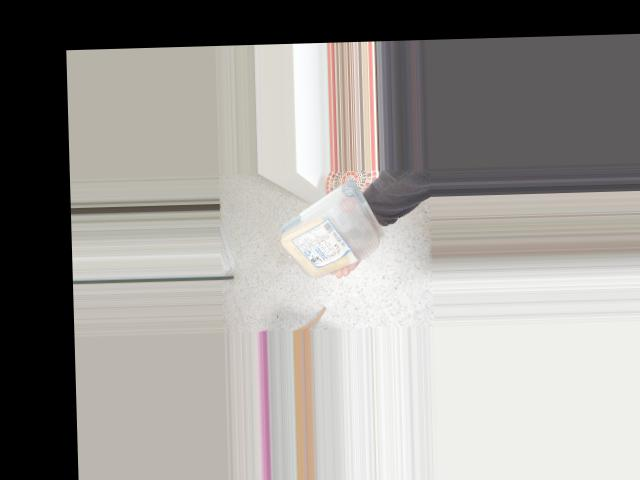cheese: (272, 185, 383, 279)
